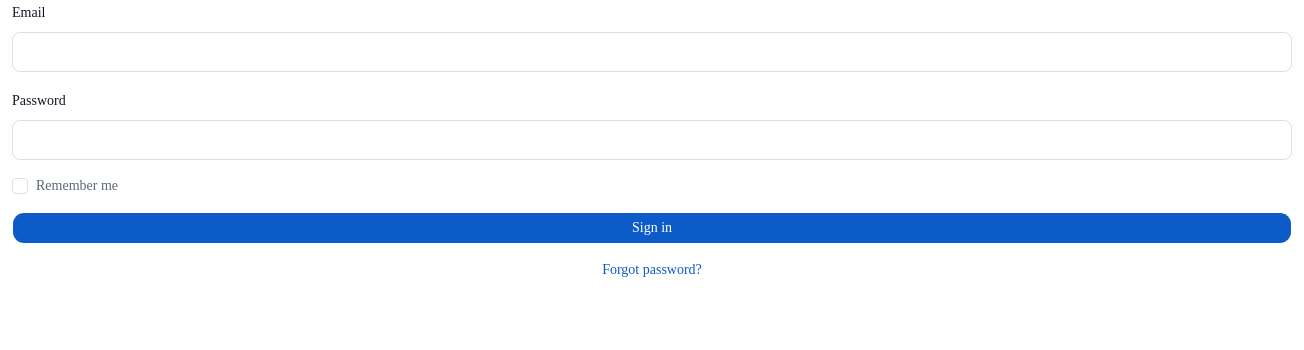
Test: LoginForm feature › renders validation errors
Click the button "Sign in".
click(652, 228)  # box [12,212,1292,244]
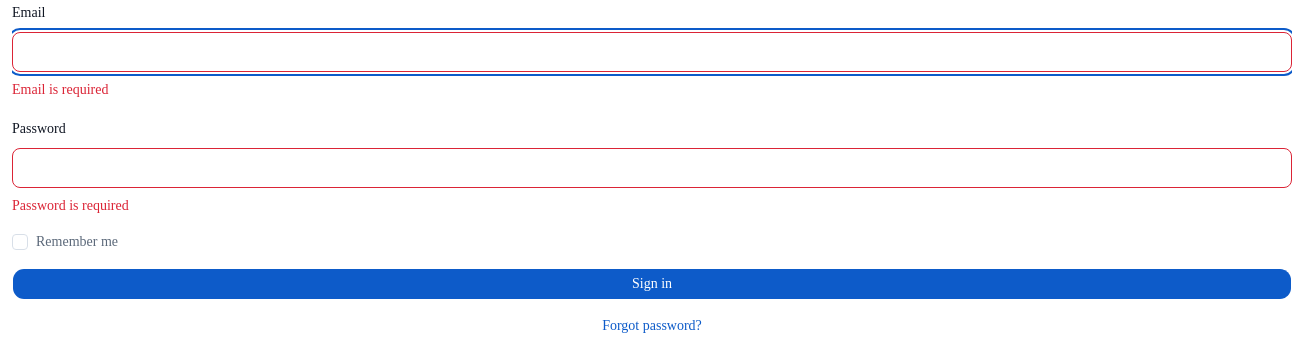
Expected: the text "Email is required" is shown, [12,82,108,97]
Expected: the text "Password is required" is shown, [12,198,129,213]
